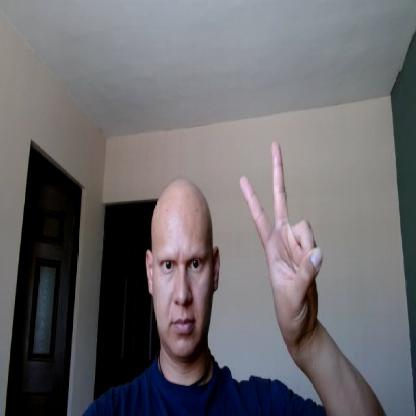V: (239, 138, 324, 334)
